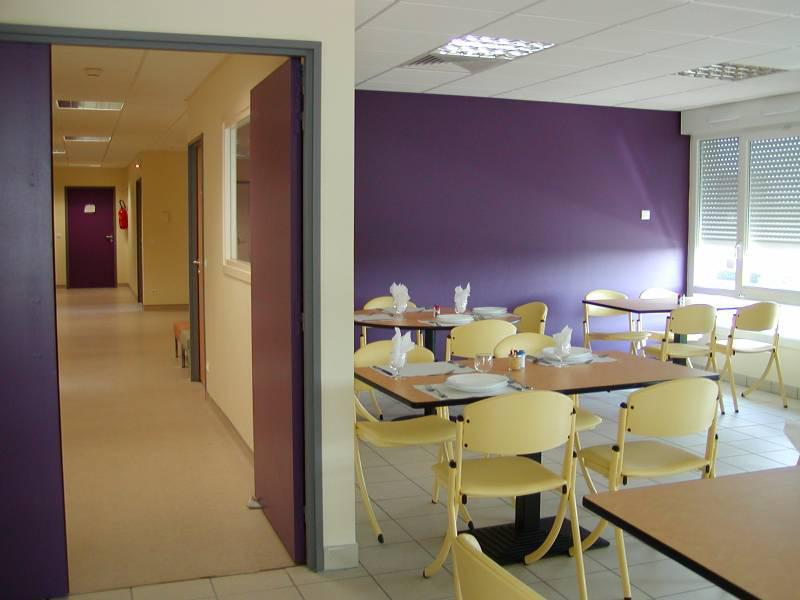Puerta: (244, 71, 315, 573)
